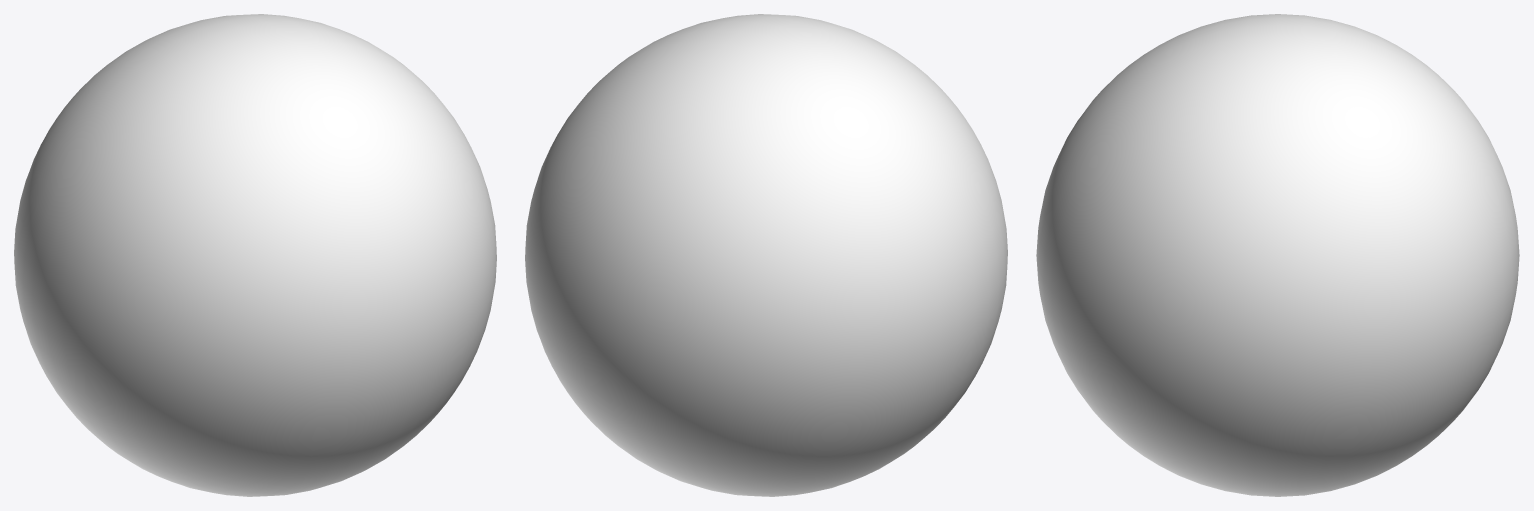
File: sphere_white.glb
3 views of the same model, side by side, from view 1: azimuth 30°, elevation 25°; view 2: azimuth 150°, elevation 25°; view 3: azimuth 270°, elevation 25° (orthographic).
Parts seen in each view (by area): view 1: mesh_id27; view 2: mesh_id27; view 3: mesh_id27.
Boxes of the visible parts, x1=… form: mesh_id27: x1=14, y1=14, x2=496, y2=496; mesh_id27: x1=525, y1=14, x2=1007, y2=496; mesh_id27: x1=1036, y1=14, x2=1519, y2=496.
Size of the model in its own units: 0.2 by 0.2 by 0.2.
Materials: 1 (1 with a texture image).
